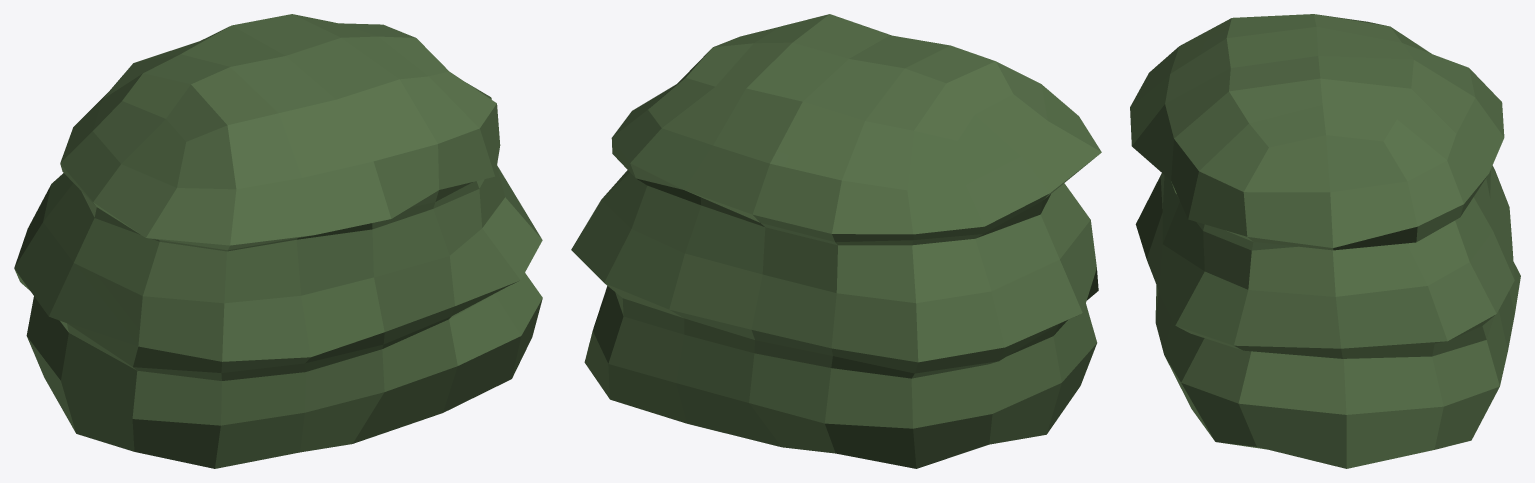
The model's file is BushBerries_Harvested.glb.
3 views of the same model, side by side, from view 1: azimuth 30°, elevation 25°; view 2: azimuth 150°, elevation 25°; view 3: azimuth 270°, elevation 25° (orthographic). The views are drawn at different scales.
Visible parts, largest first — view 1: BushBerries_Harvested; view 2: BushBerries_Harvested; view 3: BushBerries_Harvested.
Part boxes in pixels (<box>): BushBerries_Harvested: <box>14,14,542,468</box>; BushBerries_Harvested: <box>571,14,1101,468</box>; BushBerries_Harvested: <box>1130,14,1520,468</box>.
Size of the model in its own units: 1.72 by 1.25 by 1.32.
